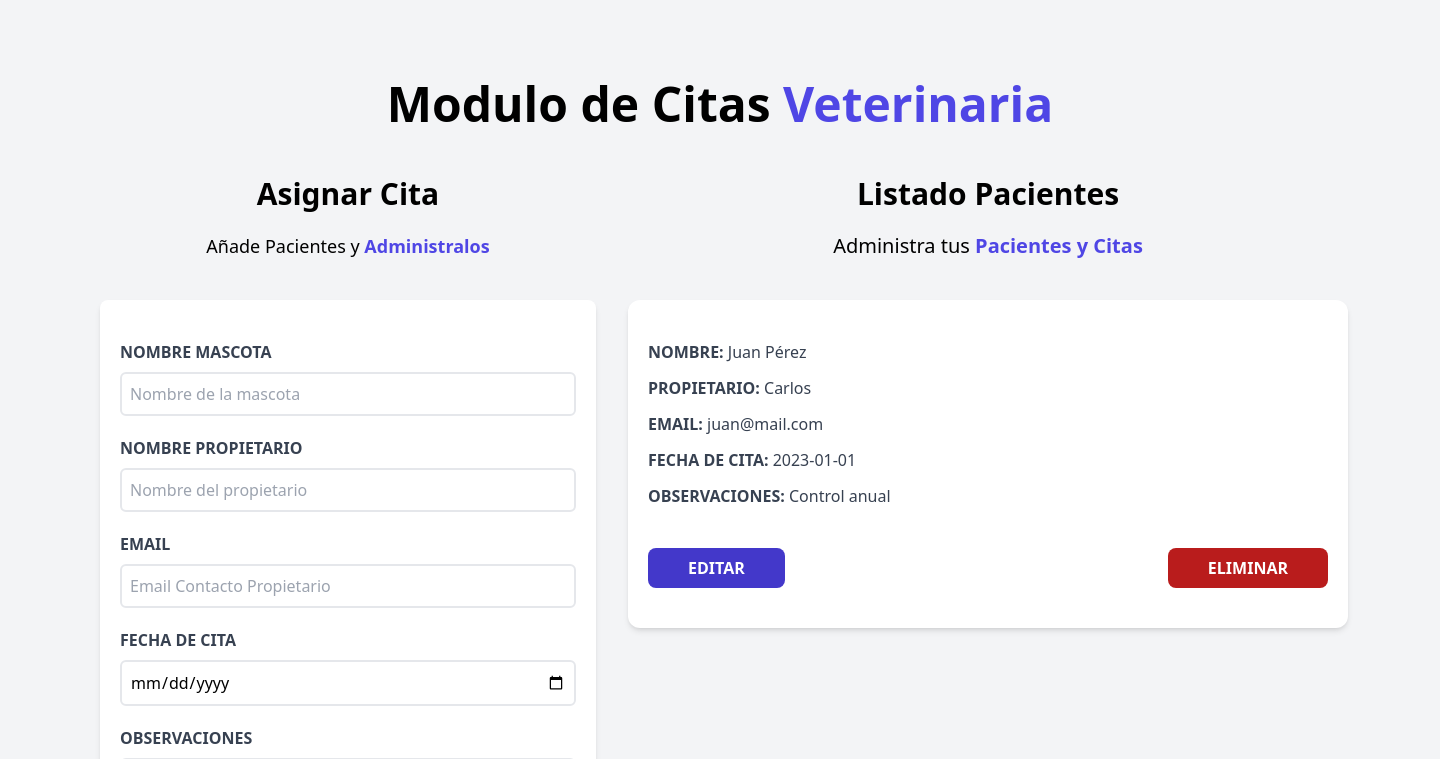
Scenario: debe editar un paciente
This screenshot has width=1440, height=759.
What coordinates should you click on to do the following:
click the button "Editar"
I would click on:
 (716, 568)
Its box is [648, 548, 785, 588].
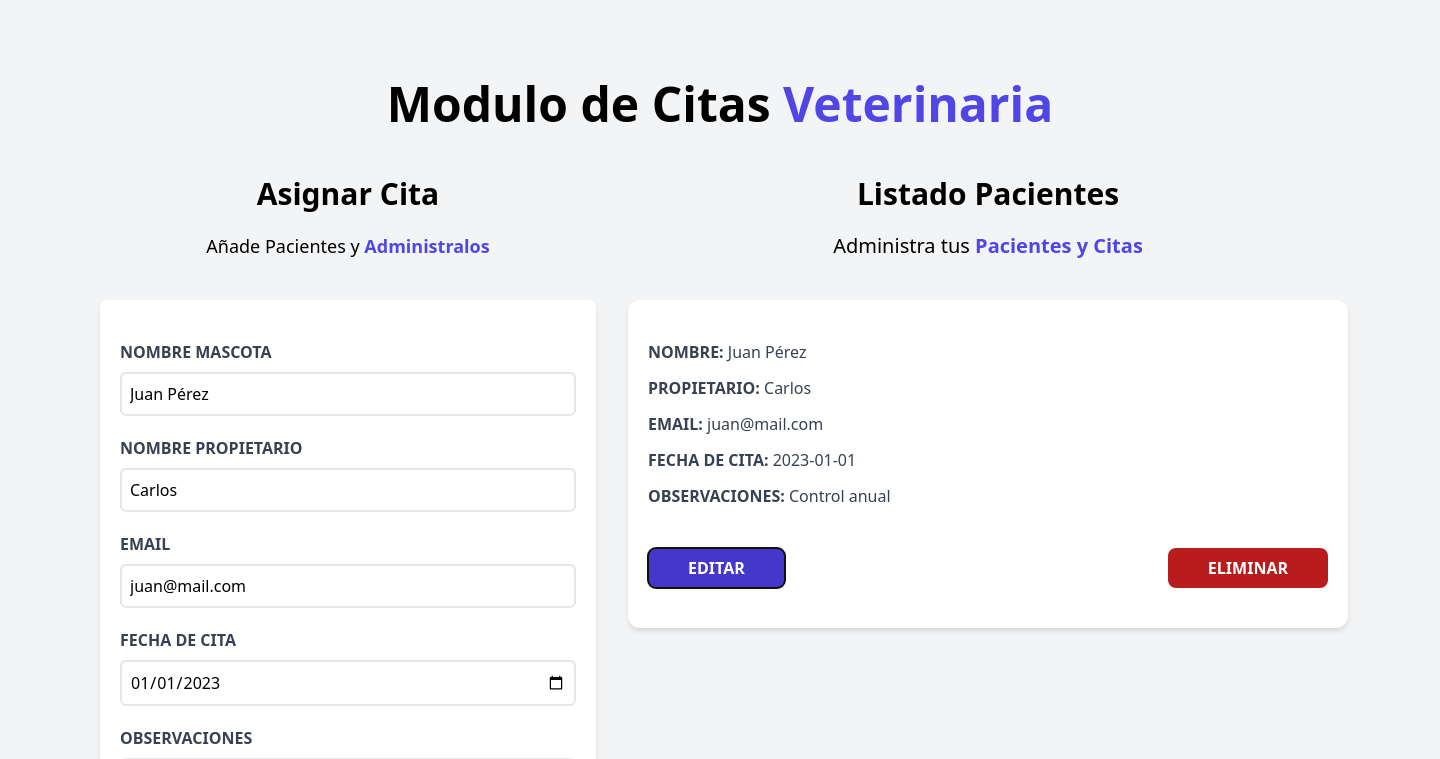
expect the field labelled "Nombre Mascota" holds "Juan Pérez": met, box [120, 372, 576, 416]
expect the field labelled "Nombre Propietario" holds "Carlos": met, box [120, 468, 576, 512]
expect the field labelled "Email" holds "juan@mail.com": met, box [120, 564, 576, 608]
